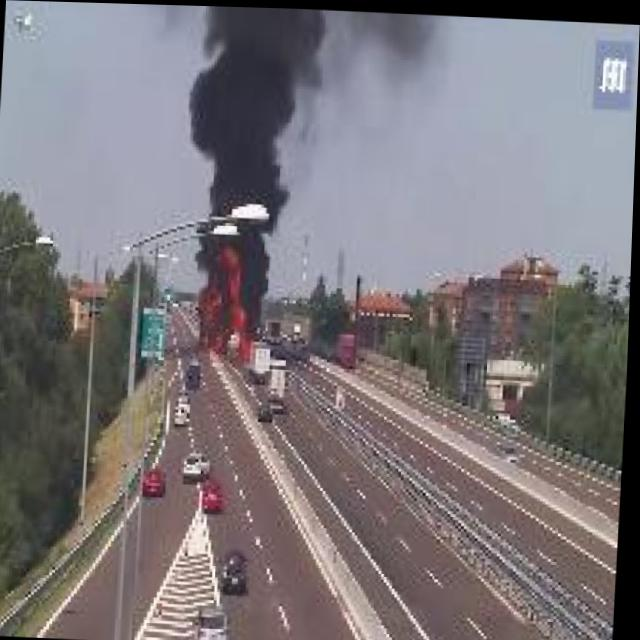fire: (198, 240, 263, 362)
